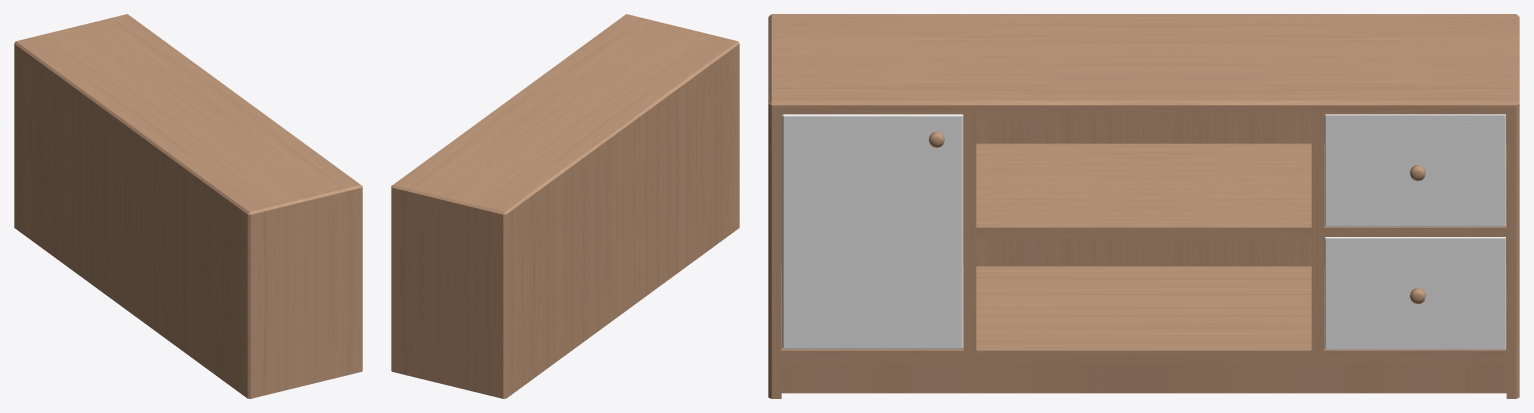
The model's file is rack_2.glb.
3 views of the same model, side by side, from view 1: azimuth 30°, elevation 25°; view 2: azimuth 150°, elevation 25°; view 3: azimuth 270°, elevation 25° (orthographic). The views are drawn at different scales.
Visible parts, largest first — view 1: rack; view 2: rack; view 3: rack, door, bottom drawer, top drawer.
Part boxes in pixels (x1,y1,x2,y2): rack: (14, 14, 362, 398); rack: (391, 14, 739, 398); rack: (768, 14, 1519, 398); door: (782, 114, 963, 349); bottom drawer: (1324, 237, 1505, 349); top drawer: (1324, 114, 1505, 226).
Size of the model in its own units: 1 by 1.48 by 3.4.
Materials: 2 (2 with a texture image).
